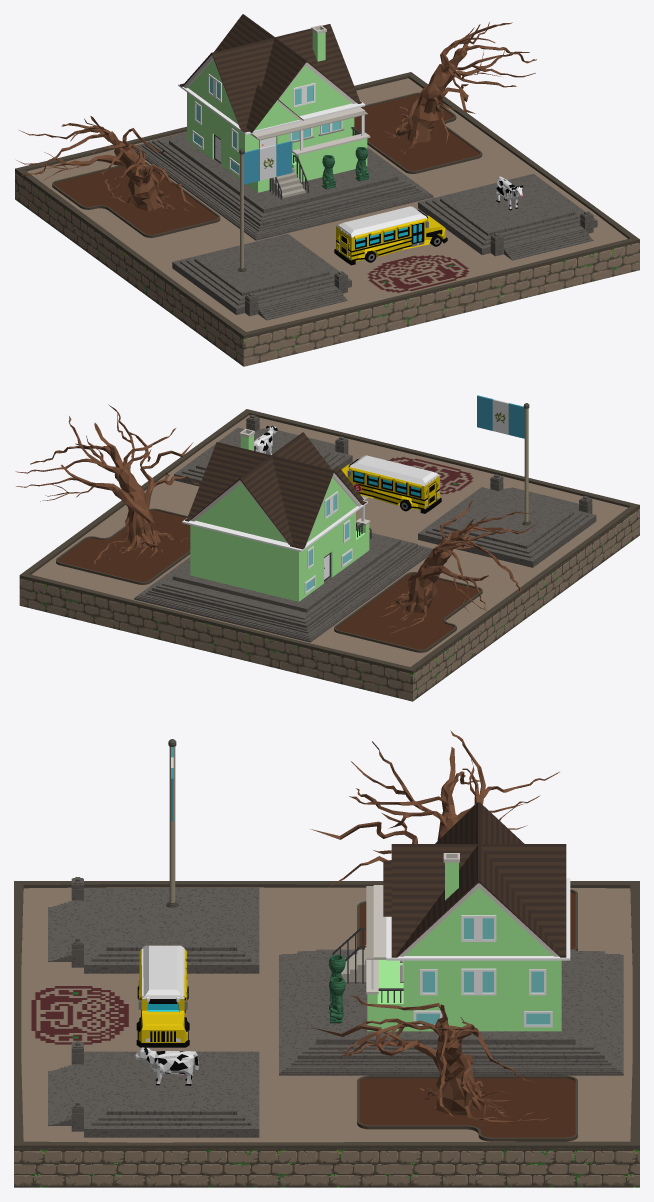
The picture shows the model from 3 angles, top to bottom: view 1: azimuth 30°, elevation 25°; view 2: azimuth 150°, elevation 25°; view 3: azimuth 270°, elevation 25°; orthographic projection. The views are drawn at different scales.
Visible parts, largest first — view 1: Cube.011, Cube.274, VEHICLES_SCHOOL_BUS, OBJRANDOM_GUATEMALAN_FLAG, ANIMAL_VACA; view 2: Cube.011, Cube.274, VEHICLES_SCHOOL_BUS, OBJRANDOM_GUATEMALAN_FLAG; view 3: Cube.011, Cube.274, VEHICLES_SCHOOL_BUS, ANIMAL_VACA, OBJRANDOM_GUATEMALAN_FLAG.
Part boxes in pixels (x1,y1,x2,y2): Cube.011: (15, 22, 639, 366); Cube.274: (178, 14, 370, 199); VEHICLES_SCHOOL_BUS: (334, 206, 447, 265); OBJRANDOM_GUATEMALAN_FLAG: (237, 141, 292, 271); ANIMAL_VACA: (496, 176, 523, 210); Cube.011: (15, 404, 639, 701); Cube.274: (182, 428, 371, 601); VEHICLES_SCHOOL_BUS: (341, 455, 441, 513); OBJRANDOM_GUATEMALAN_FLAG: (477, 395, 531, 525); Cube.011: (14, 730, 639, 1187); Cube.274: (332, 802, 570, 1031); VEHICLES_SCHOOL_BUS: (136, 945, 189, 1047); ANIMAL_VACA: (134, 1045, 198, 1085); OBJRANDOM_GUATEMALAN_FLAG: (166, 739, 178, 907).
Bounding box in the file's own units: 5099 × 1761 × 4000.
Materials: 39 (5 with a texture image).
